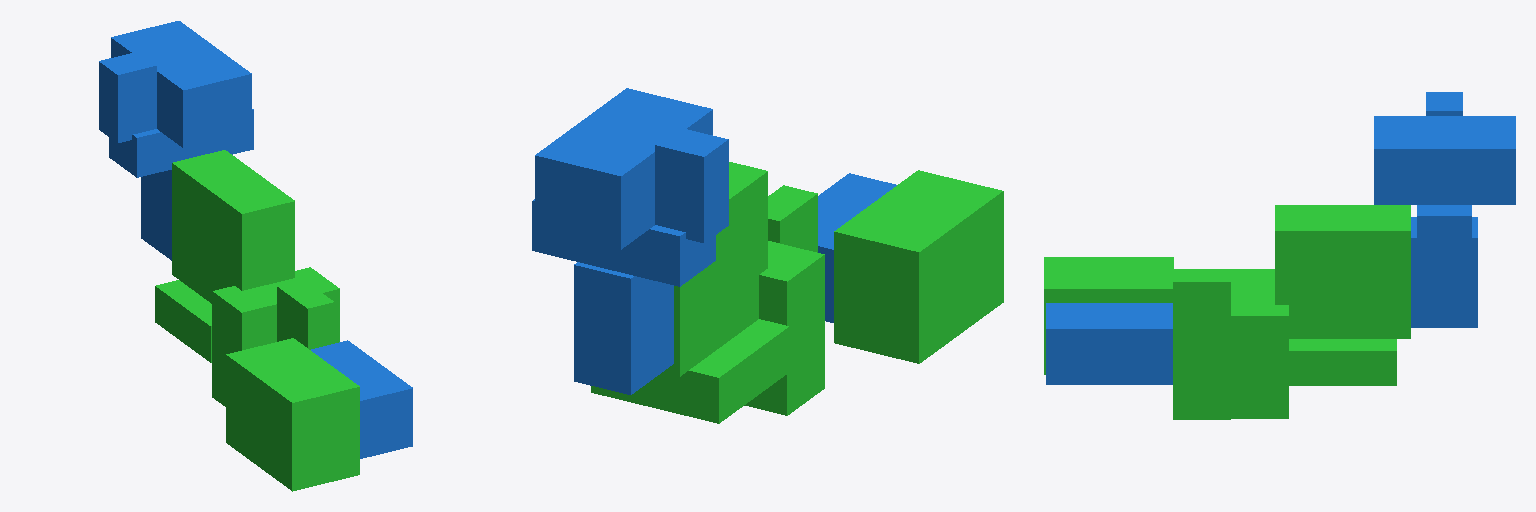
URDF robot description (robot):
<robot name = "robot">
    <link name="Link0">
        <inertial>
            <origin xyz="0 0 2" rpy="0 0 0"/>
            <mass value="0.5153199708534227" />
            <inertia ixx="100" ixy="0" ixz="0" iyy="100" iyz="0" izz="100" />
        </inertial>
        <visual>
            <origin xyz="0 0 2" rpy="0 0 0"/>
            <geometry>
                <box size="0.6232778778648282 1.0621869757489848 0.7783846967228796" />
            </geometry>
            <material name="Sensor">
                <color rgba="0.239 0.875 0.282 1.0"/>
            </material>
        </visual>
        <collision>
            <origin xyz="0 0 2" rpy="0 0 0"/>
            <geometry>
                <box size="0.6232778778648282 1.0621869757489848 0.7783846967228796" />
            </geometry>
        </collision>
    </link>
    <joint name="Link0_Link1" type="revolute">
       <parent link="Link0"/>
       <child  link="Link1"/>
       <origin rpy="0 0 0" xyz="0.3116389389324141 0 2" />
       <axis xyz="1 0 0"/>
       <limit effort="0.0" lower="-3.14159" upper="3.14159" velocity="0.0"/>
    </joint>
    <link name="Link1">
        <inertial>
            <origin xyz="0.24856541280006422 0 0" rpy="0 0 0"/>
            <mass value="0.26531821809070266" />
            <inertia ixx="100" ixy="0" ixz="0" iyy="100" iyz="0" izz="100" />
        </inertial>
        <visual>
            <origin xyz="0.24856541280006422 0 0" rpy="0 0 0"/>
            <geometry>
                <box size="0.49713082560012845 1.0428879304474936 0.5117510439444676" />
            </geometry>
            <material name="No Sensor">
                <color rgba="0.184 0.553 0.933 1.0"/>
            </material>
        </visual>
        <collision>
            <origin xyz="0.24856541280006422 0 0" rpy="0 0 0"/>
            <geometry>
                <box size="0.49713082560012845 1.0428879304474936 0.5117510439444676" />
            </geometry>
        </collision>
    </link>
    <joint name="Link1_Link2" type="revolute">
       <parent link="Link1"/>
       <child  link="Link2"/>
       <origin rpy="0 0 0" xyz="0.24856541280006422 0.5214439652237468 0.0" />
       <axis xyz="1 0 0"/>
       <limit effort="0.0" lower="-3.14159" upper="3.14159" velocity="0.0"/>
    </joint>
    <link name="Link2">
        <inertial>
            <origin xyz="0.0 0.24065945947786627 0.0" rpy="0 0 0"/>
            <mass value="0.14985282442499695" />
            <inertia ixx="100" ixy="0" ixz="0" iyy="100" iyz="0" izz="100" />
        </inertial>
        <visual>
            <origin xyz="0.0 0.24065945947786627 0.0" rpy="0 0 0"/>
            <geometry>
                <box size="0.2503983800547518 0.48131891895573253 1.243370288962481" />
            </geometry>
            <material name="Sensor">
                <color rgba="0.239 0.875 0.282 1.0"/>
            </material>
        </visual>
        <collision>
            <origin xyz="0.0 0.24065945947786627 0.0" rpy="0 0 0"/>
            <geometry>
                <box size="0.2503983800547518 0.48131891895573253 1.243370288962481" />
            </geometry>
        </collision>
    </link>
    <joint name="Link2_Link3" type="revolute">
       <parent link="Link2"/>
       <child  link="Link3"/>
       <origin rpy="0 0 0" xyz="0.0 0.48131891895573253 0.0" />
       <axis xyz="0 1 0"/>
       <limit effort="0.0" lower="-3.14159" upper="3.14159" velocity="0.0"/>
    </joint>
    <link name="Link3">
        <inertial>
            <origin xyz="0.0 0.23533406104358684 0.0" rpy="0 0 0"/>
            <mass value="0.399282160524188" />
            <inertia ixx="100" ixy="0" ixz="0" iyy="100" iyz="0" izz="100" />
        </inertial>
        <visual>
            <origin xyz="0.0 0.23533406104358684 0.0" rpy="0 0 0"/>
            <geometry>
                <box size="0.9062008343421062 0.4706681220871737 0.9361397019787449" />
            </geometry>
            <material name="Sensor">
                <color rgba="0.239 0.875 0.282 1.0"/>
            </material>
        </visual>
        <collision>
            <origin xyz="0.0 0.23533406104358684 0.0" rpy="0 0 0"/>
            <geometry>
                <box size="0.9062008343421062 0.4706681220871737 0.9361397019787449" />
            </geometry>
        </collision>
    </link>
    <joint name="Link3_Link4" type="revolute">
       <parent link="Link3"/>
       <child  link="Link4"/>
       <origin rpy="0 0 0" xyz="0.0 0.4706681220871737 0.0" />
       <axis xyz="1 0 0"/>
       <limit effort="0.0" lower="-3.14159" upper="3.14159" velocity="0.0"/>
    </joint>
    <link name="Link4">
        <inertial>
            <origin xyz="0.0 0.445371384968429 0.0" rpy="0 0 0"/>
            <mass value="0.26752010122631686" />
            <inertia ixx="100" ixy="0" ixz="0" iyy="100" iyz="0" izz="100" />
        </inertial>
        <visual>
            <origin xyz="0.0 0.445371384968429 0.0" rpy="0 0 0"/>
            <geometry>
                <box size="0.9369368982218188 0.890742769936858 0.32054851672187645" />
            </geometry>
            <material name="Sensor">
                <color rgba="0.239 0.875 0.282 1.0"/>
            </material>
        </visual>
        <collision>
            <origin xyz="0.0 0.445371384968429 0.0" rpy="0 0 0"/>
            <geometry>
                <box size="0.9369368982218188 0.890742769936858 0.32054851672187645" />
            </geometry>
        </collision>
    </link>
    <joint name="Link4_Link5" type="revolute">
       <parent link="Link4"/>
       <child  link="Link5"/>
       <origin rpy="0 0 0" xyz="0.0 0.445371384968429 0.16027425836093823" />
       <axis xyz="1 0 0"/>
       <limit effort="0.0" lower="-3.14159" upper="3.14159" velocity="0.0"/>
    </joint>
    <link name="Link5">
        <inertial>
            <origin xyz="0.0 0.0 0.49237040965076084" rpy="0 0 0"/>
            <mass value="0.5441013235312326" />
            <inertia ixx="100" ixy="0" ixz="0" iyy="100" iyz="0" izz="100" />
        </inertial>
        <visual>
            <origin xyz="0.0 0.0 0.49237040965076084" rpy="0 0 0"/>
            <geometry>
                <box size="0.4929641169892971 1.1208371928269385 0.9847408193015217" />
            </geometry>
            <material name="Sensor">
                <color rgba="0.239 0.875 0.282 1.0"/>
            </material>
        </visual>
        <collision>
            <origin xyz="0.0 0.0 0.49237040965076084" rpy="0 0 0"/>
            <geometry>
                <box size="0.4929641169892971 1.1208371928269385 0.9847408193015217" />
            </geometry>
        </collision>
    </link>
    <joint name="Link5_Link6" type="revolute">
       <parent link="Link5"/>
       <child  link="Link6"/>
       <origin rpy="0 0 0" xyz="0.0 0.5604185964134692 0.49237040965076084" />
       <axis xyz="1 0 0"/>
       <limit effort="0.0" lower="-3.14159" upper="3.14159" velocity="0.0"/>
    </joint>
    <link name="Link6">
        <inertial>
            <origin xyz="0.0 0.274294730638273 0.0" rpy="0 0 0"/>
            <mass value="0.18628357541494234" />
            <inertia ixx="100" ixy="0" ixz="0" iyy="100" iyz="0" izz="100" />
        </inertial>
        <visual>
            <origin xyz="0.0 0.274294730638273 0.0" rpy="0 0 0"/>
            <geometry>
                <box size="0.4178160059840834 0.548589461276546 0.8127220287356469" />
            </geometry>
            <material name="No Sensor">
                <color rgba="0.184 0.553 0.933 1.0"/>
            </material>
        </visual>
        <collision>
            <origin xyz="0.0 0.274294730638273 0.0" rpy="0 0 0"/>
            <geometry>
                <box size="0.4178160059840834 0.548589461276546 0.8127220287356469" />
            </geometry>
        </collision>
    </link>
    <joint name="Link6_Link7" type="revolute">
       <parent link="Link6"/>
       <child  link="Link7"/>
       <origin rpy="0 0 0" xyz="0.0 0.274294730638273 0.40636101436782346" />
       <axis xyz="0 1 0"/>
       <limit effort="0.0" lower="-3.14159" upper="3.14159" velocity="0.0"/>
    </joint>
    <link name="Link7">
        <inertial>
            <origin xyz="0.0 0.0 0.17583264682674443" rpy="0 0 0"/>
            <mass value="0.1705423244446408" />
            <inertia ixx="100" ixy="0" ixz="0" iyy="100" iyz="0" izz="100" />
        </inertial>
        <visual>
            <origin xyz="0.0 0.0 0.17583264682674443" rpy="0 0 0"/>
            <geometry>
                <box size="1.076445766022829 0.4505163063645068 0.35166529365348886" />
            </geometry>
            <material name="No Sensor">
                <color rgba="0.184 0.553 0.933 1.0"/>
            </material>
        </visual>
        <collision>
            <origin xyz="0.0 0.0 0.17583264682674443" rpy="0 0 0"/>
            <geometry>
                <box size="1.076445766022829 0.4505163063645068 0.35166529365348886" />
            </geometry>
        </collision>
    </link>
    <joint name="Link7_Link8" type="revolute">
       <parent link="Link7"/>
       <child  link="Link8"/>
       <origin rpy="0 0 0" xyz="0.0 0.0 0.35166529365348886" />
       <axis xyz="0 0 1"/>
       <limit effort="0.0" lower="-3.14159" upper="3.14159" velocity="0.0"/>
    </joint>
    <link name="Link8">
        <inertial>
            <origin xyz="0.0 0.0 0.25525675962871214" rpy="0 0 0"/>
            <mass value="0.3749492047076962" />
            <inertia ixx="100" ixy="0" ixz="0" iyy="100" iyz="0" izz="100" />
        </inertial>
        <visual>
            <origin xyz="0.0 0.0 0.25525675962871214" rpy="0 0 0"/>
            <geometry>
                <box size="0.6318688895906489 1.1623534692527588 0.5105135192574243" />
            </geometry>
            <material name="No Sensor">
                <color rgba="0.184 0.553 0.933 1.0"/>
            </material>
        </visual>
        <collision>
            <origin xyz="0.0 0.0 0.25525675962871214" rpy="0 0 0"/>
            <geometry>
                <box size="0.6318688895906489 1.1623534692527588 0.5105135192574243" />
            </geometry>
        </collision>
    </link>
    <joint name="Link8_Link9" type="revolute">
       <parent link="Link8"/>
       <child  link="Link9"/>
       <origin rpy="0 0 0" xyz="-0.31593444479532445 0.0 0.25525675962871214" />
       <axis xyz="1 0 0"/>
       <limit effort="0.0" lower="-3.14159" upper="3.14159" velocity="0.0"/>
    </joint>
    <link name="Link9">
        <inertial>
            <origin xyz="-0.17915217635654013 0.0 0.0" rpy="0 0 0"/>
            <mass value="0.06595554518157262" />
            <inertia ixx="100" ixy="0" ixz="0" iyy="100" iyz="0" izz="100" />
        </inertial>
        <visual>
            <origin xyz="-0.17915217635654013 0.0 0.0" rpy="0 0 0"/>
            <geometry>
                <box size="0.35830435271308025 0.3059429652757826 0.6016705558700568" />
            </geometry>
            <material name="No Sensor">
                <color rgba="0.184 0.553 0.933 1.0"/>
            </material>
        </visual>
        <collision>
            <origin xyz="-0.17915217635654013 0.0 0.0" rpy="0 0 0"/>
            <geometry>
                <box size="0.35830435271308025 0.3059429652757826 0.6016705558700568" />
            </geometry>
        </collision>
    </link>
</robot>

--- What the picture shows (computed from the rendered views, not written in the file) ---
Views: 3 orthographic renders of the robot side by side, from view 1: azimuth 30°, elevation 25°; view 2: azimuth 150°, elevation 25°; view 3: azimuth 270°, elevation 25°.
Robot: robot — 10 links, 9 joints (9 revolute); root link Link0; default pose: all joints at 0.
Visible links, largest first — view 1: Link0, Link5, Link8, Link3, Link1, Link9, Link7, Link2, Link4, Link6; view 2: Link0, Link8, Link5, Link6, Link4, Link3, Link9, Link7, Link1, Link2; view 3: Link5, Link8, Link1, Link2, Link3, Link0, Link6, Link4, Link7, Link9.
Link boxes in pixels (box(x1,y1,x2,y2)): Link0: box(226, 338, 359, 491); Link5: box(172, 150, 294, 303); Link8: box(111, 21, 251, 147); Link3: box(212, 267, 339, 406); Link1: box(311, 340, 412, 458); Link9: box(99, 52, 156, 142); Link7: box(109, 109, 253, 177); Link2: box(277, 280, 334, 349); Link4: box(155, 280, 211, 362); Link6: box(141, 170, 171, 260); Link0: box(834, 170, 1003, 363); Link8: box(535, 88, 712, 249); Link5: box(662, 162, 767, 376); Link6: box(574, 262, 673, 394); Link4: box(591, 319, 789, 423); Link3: box(744, 241, 824, 415); Link9: box(655, 127, 728, 242); Link7: box(532, 199, 715, 286); Link1: box(818, 173, 896, 322); Link2: box(768, 185, 817, 252); Link5: box(1275, 205, 1410, 338); Link8: box(1374, 116, 1515, 204); Link1: box(1046, 303, 1172, 384); Link2: box(1173, 269, 1230, 419); Link3: box(1231, 269, 1288, 418); Link0: box(1044, 257, 1173, 374); Link6: box(1411, 217, 1477, 327); Link4: box(1289, 339, 1396, 385); Link7: box(1417, 205, 1471, 254); Link9: box(1426, 92, 1462, 115).
Bounding box of the posed robot: 1.41 × 3.87 × 2.59 m (x, y, z).
Geometry: primitives only (box / cylinder / sphere), no mesh files.
